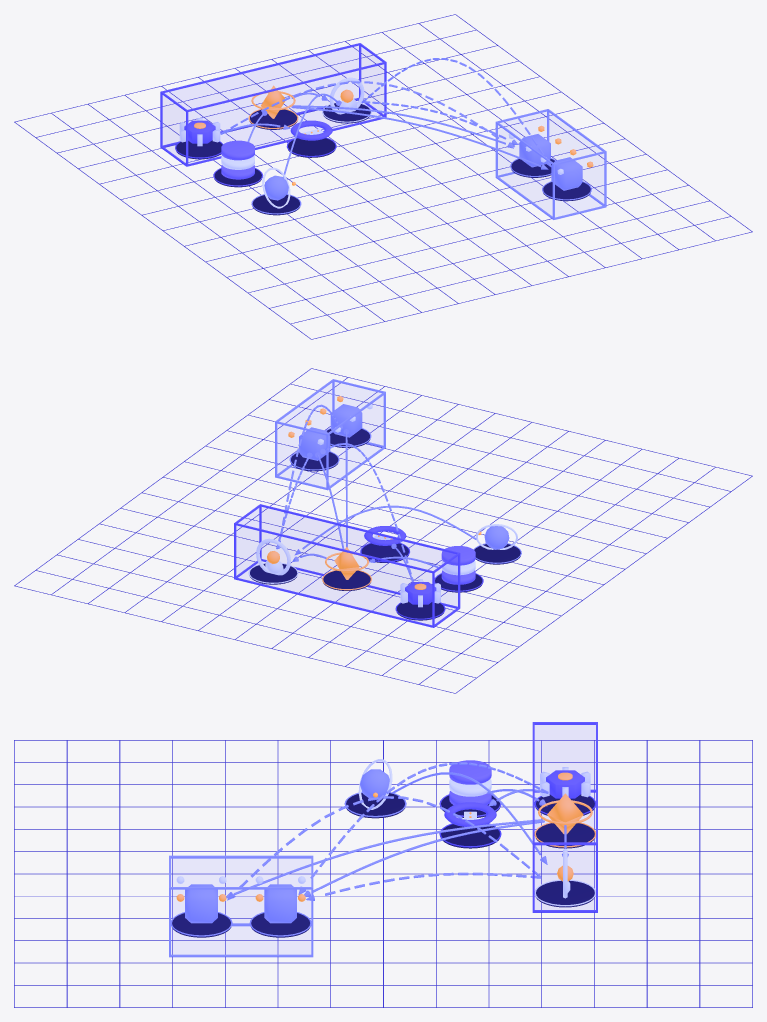
File: grafana.glb
3 renders of one model, top to bottom at view 1: azimuth 30°, elevation 25°; view 2: azimuth 150°, elevation 25°; view 3: azimuth 270°, elevation 25°, orthographic. The views are drawn at different scales.
Parts seen in each view (by area): view 1: floor, group_Grafana, group_Datasources, mesh_ds_loki_core, mesh_contact_pad, mesh_ds_prom_core, mesh_users_pad, link_prov_ds_loki, mesh_alert_pad, mesh_prov_pad, link_alert_ds_prom, mesh_git_disc2 (+2 smaller); view 2: floor, group_Grafana, group_Datasources, mesh_ds_loki_core, mesh_prov_pad, mesh_ds_prom_core, mesh_users_pad, mesh_alert_pad, mesh_contact_pad, mesh_dash_pad, mesh_ds_prom_pad; view 3: floor, group_Datasources, group_Grafana, mesh_ds_loki_core, mesh_ds_prom_core, mesh_dash_pad, mesh_prov_pad, mesh_users_pad, mesh_ds_prom_pad, mesh_contact_pad, mesh_ds_loki_pad, link_prov_ds_loki (+12 smaller).
Boxes of the visible parts, <box> form: floor: <box>14,14,752,339</box>; group_Grafana: <box>160,43,386,166</box>; group_Datasources: <box>495,109,606,219</box>; mesh_ds_loki_core: <box>551,157,582,190</box>; mesh_contact_pad: <box>288,138,335,157</box>; mesh_ds_prom_core: <box>519,134,550,167</box>; mesh_users_pad: <box>252,195,299,215</box>; link_prov_ds_loki: <box>291,106,548,169</box>; mesh_alert_pad: <box>176,140,222,159</box>; mesh_prov_pad: <box>249,109,297,129</box>; link_alert_ds_prom: <box>220,81,513,148</box>; mesh_git_disc2: <box>221,140,254,160</box>; floor: <box>14,368,752,693</box>; group_Grafana: <box>234,504,460,627</box>; group_Datasources: <box>275,379,385,490</box>; mesh_ds_loki_core: <box>330,404,362,437</box>; mesh_prov_pad: <box>323,570,370,590</box>; mesh_ds_prom_core: <box>299,427,330,460</box>; mesh_users_pad: <box>474,544,520,564</box>; mesh_alert_pad: <box>396,601,444,620</box>; mesh_contact_pad: <box>361,543,408,562</box>; mesh_dash_pad: <box>250,563,297,584</box>; mesh_ds_prom_pad: <box>291,452,338,471</box>; floor: <box>14,740,752,1007</box>; group_Datasources: <box>169,855,313,957</box>; group_Grafana: <box>532,722,597,912</box>; mesh_ds_loki_core: <box>185,884,217,923</box>; mesh_ds_prom_core: <box>264,884,296,923</box>; mesh_dash_pad: <box>536,880,594,907</box>; mesh_prov_pad: <box>536,823,594,848</box>; mesh_users_pad: <box>346,793,404,818</box>; mesh_ds_prom_pad: <box>251,913,310,937</box>; mesh_contact_pad: <box>441,824,499,848</box>; mesh_ds_loki_pad: <box>172,913,231,937</box>; link_prov_ds_loki: <box>226,819,542,898</box>.
Size of the model in its own units: 24.03 by 5.21 by 28.03.
